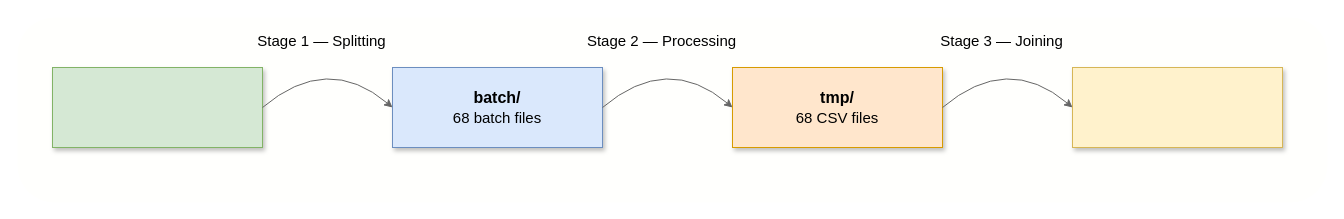
Image size: 1344x219. Some labels were removed from this diagram. Each missing label, with the centre of its shape:
"client_info/ 1,696 folders" belongs at (158,108).
"full_crm.csv final CRM" belongs at (1178,108).
